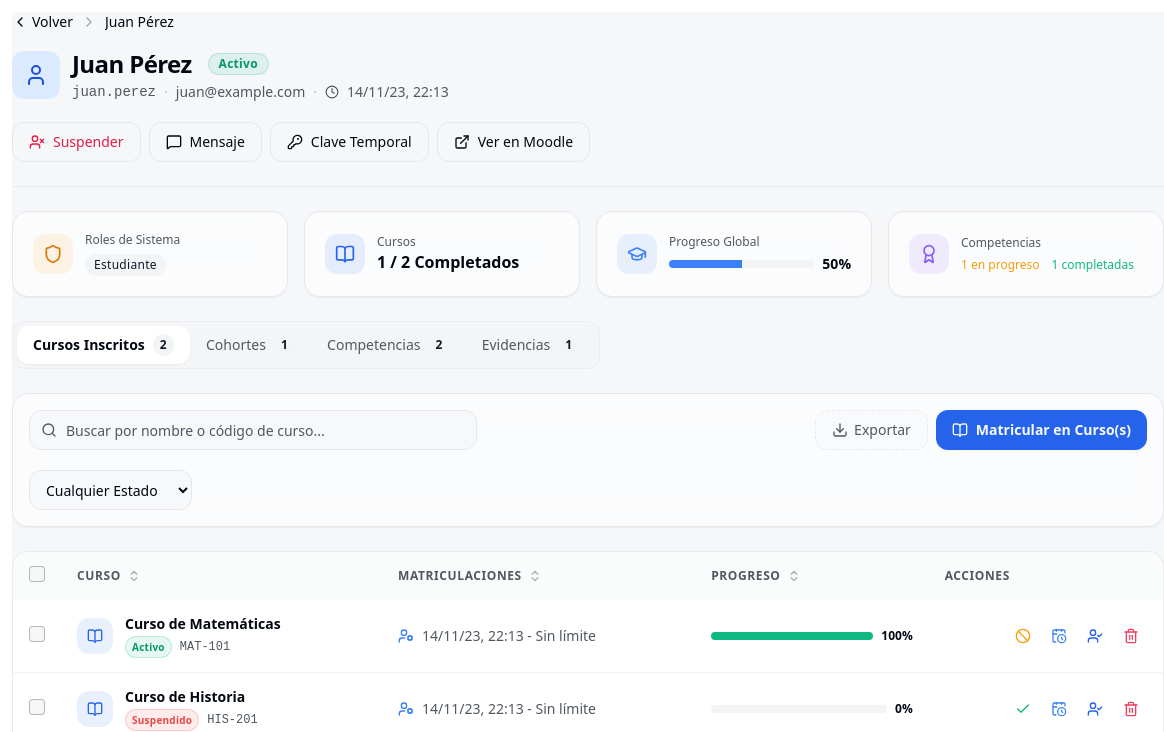
Test: Refactor Vista Detalle de Usuario › UserDetailView integra pestaña Evidencias con contador y muestra lista cronológica
Click the button "Evidencias 1" at (531,345), box [466,326,595,364]
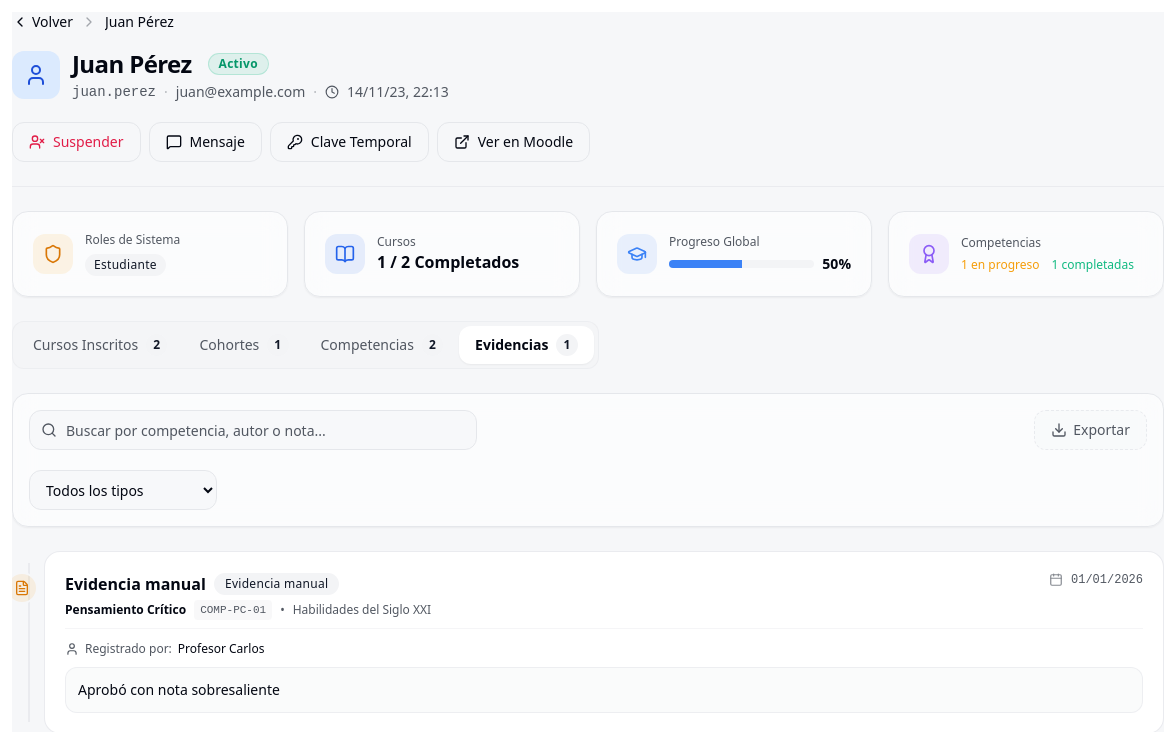
Result: the text "Aprobó con nota sobresaliente" is shown at [65,667,1143,713]
Result: the text "Profesor Carlos" is shown at [178,641,264,657]
